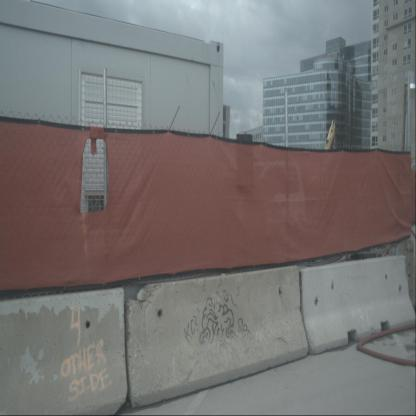barrier: (124, 262, 309, 410), (0, 283, 128, 415), (298, 256, 416, 355)
